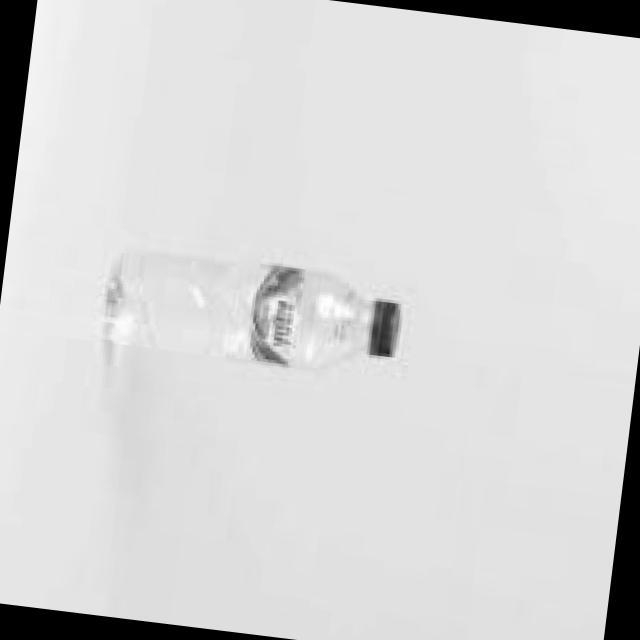good: (81, 194, 424, 400)
